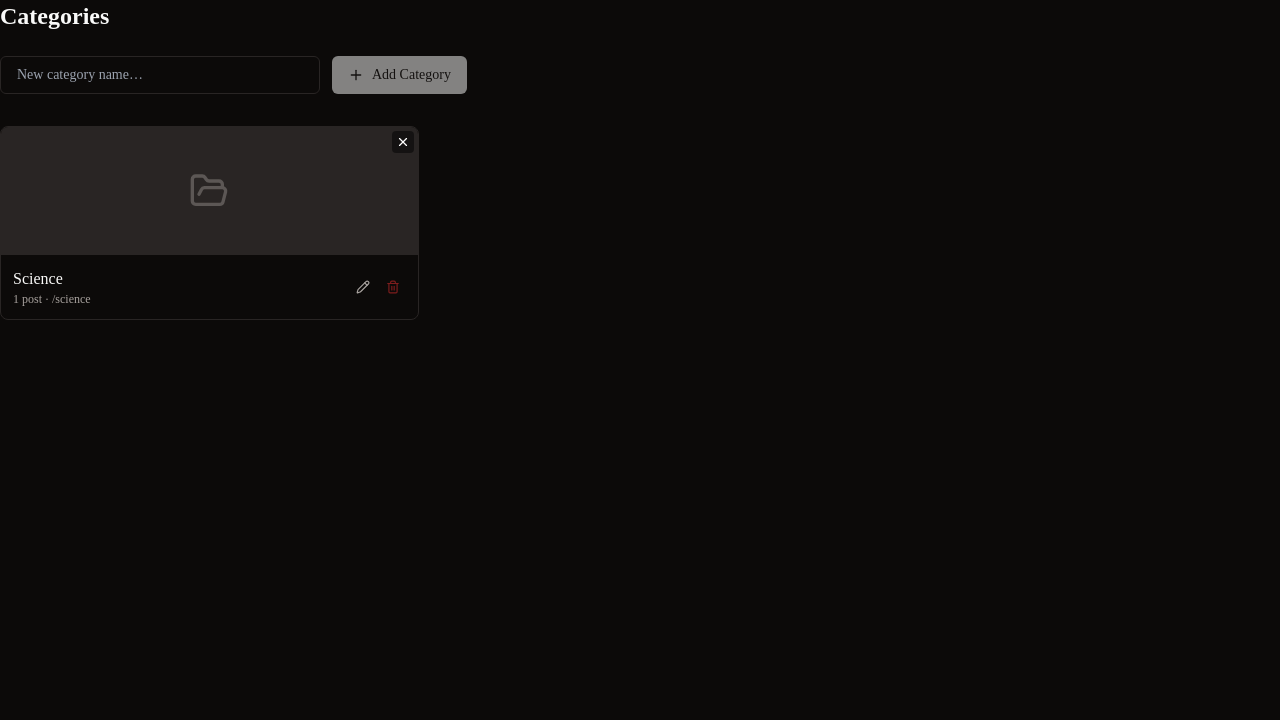
Test: AdminCategoriesPage › shows an error when removing the image fails
Check: the text "Science" is shown, box [13,270,63,287]
Click the button titled "Remove image". click: (403, 142)
box: [392,131,414,153]
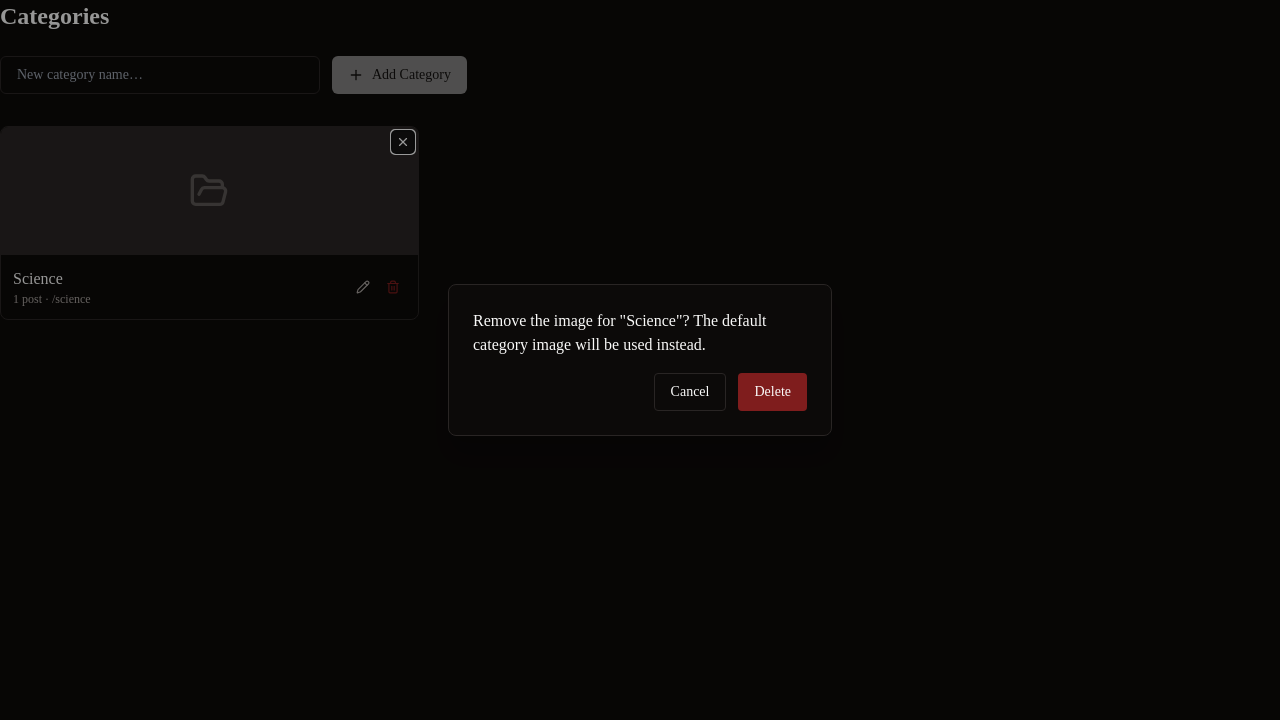
Click the button "Delete". click: (773, 392)
box: [738,373,807,411]
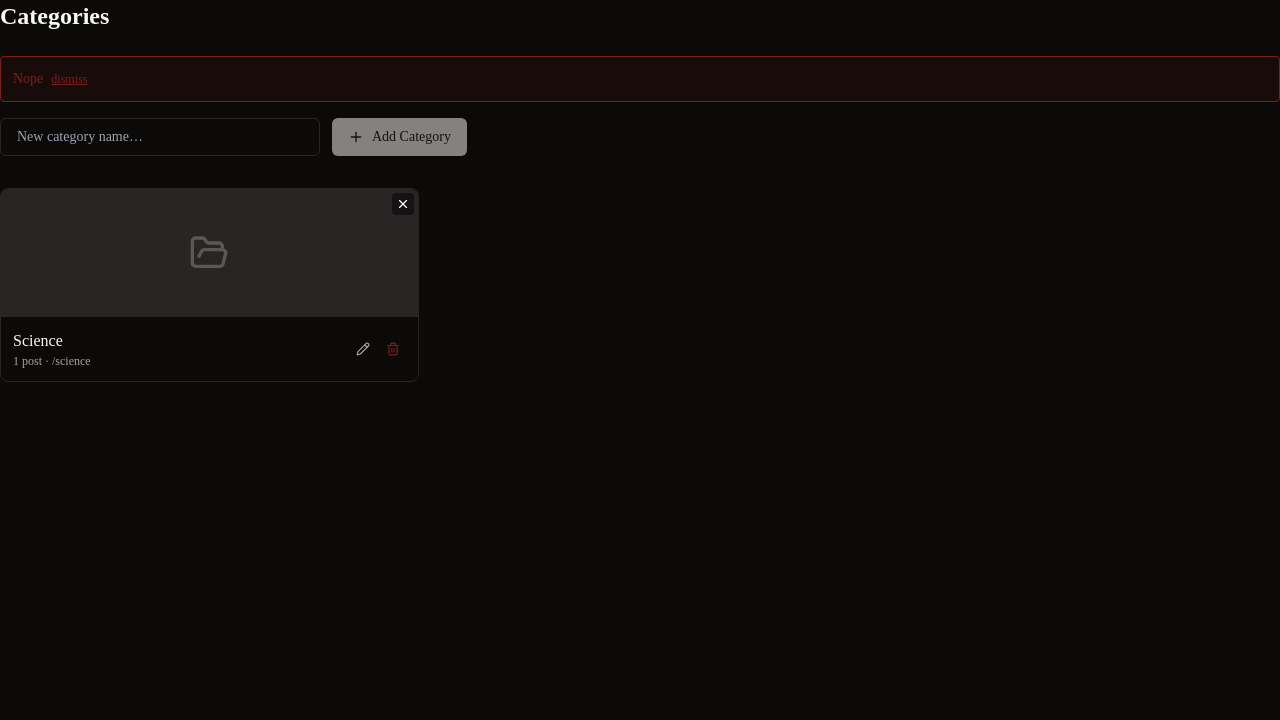
Check: the text "Nope" is shown, box [13,71,43,86]
